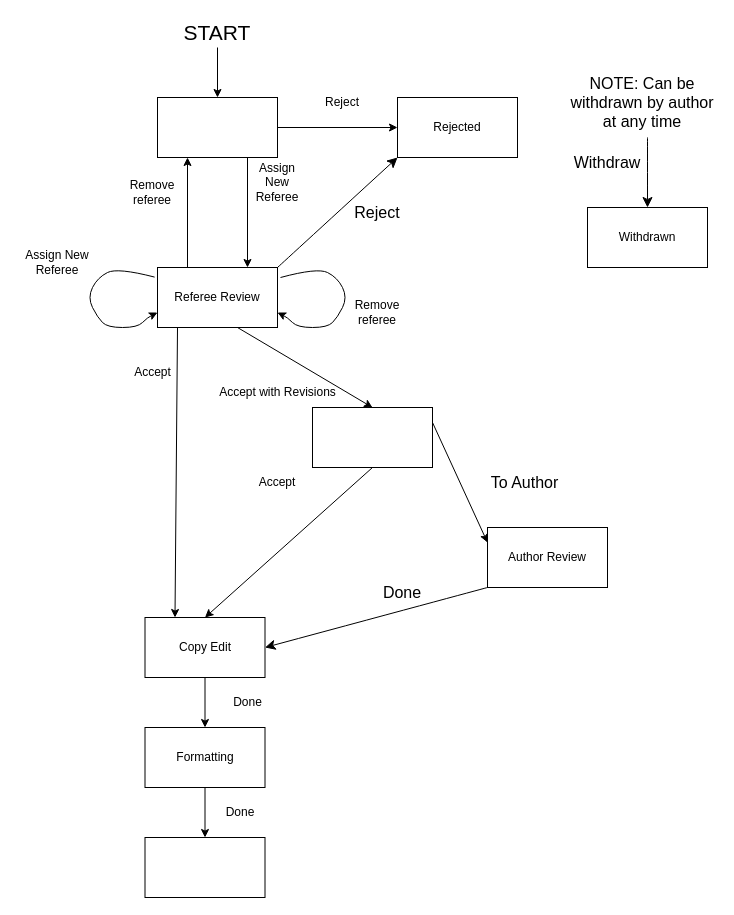
Some shapes in this 734 by 915 pixel diagram are drawn without their labels. The shapes that lost their labels are listed below. From the top down, each one's centre as x and y in pixels, then its label:
At [217,127]: "Submission".
At [372,437]: "Editor Review 1".
At [204,867]: "Published".
